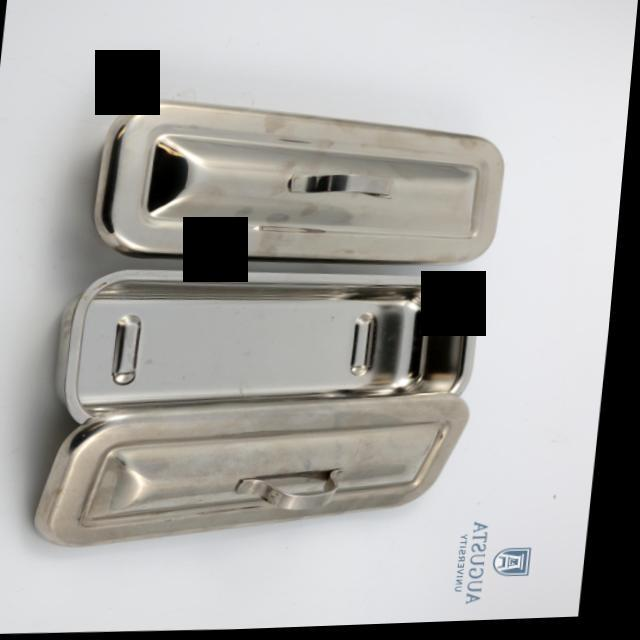Catheter Tray: (62, 89, 530, 278), (59, 251, 518, 428)
